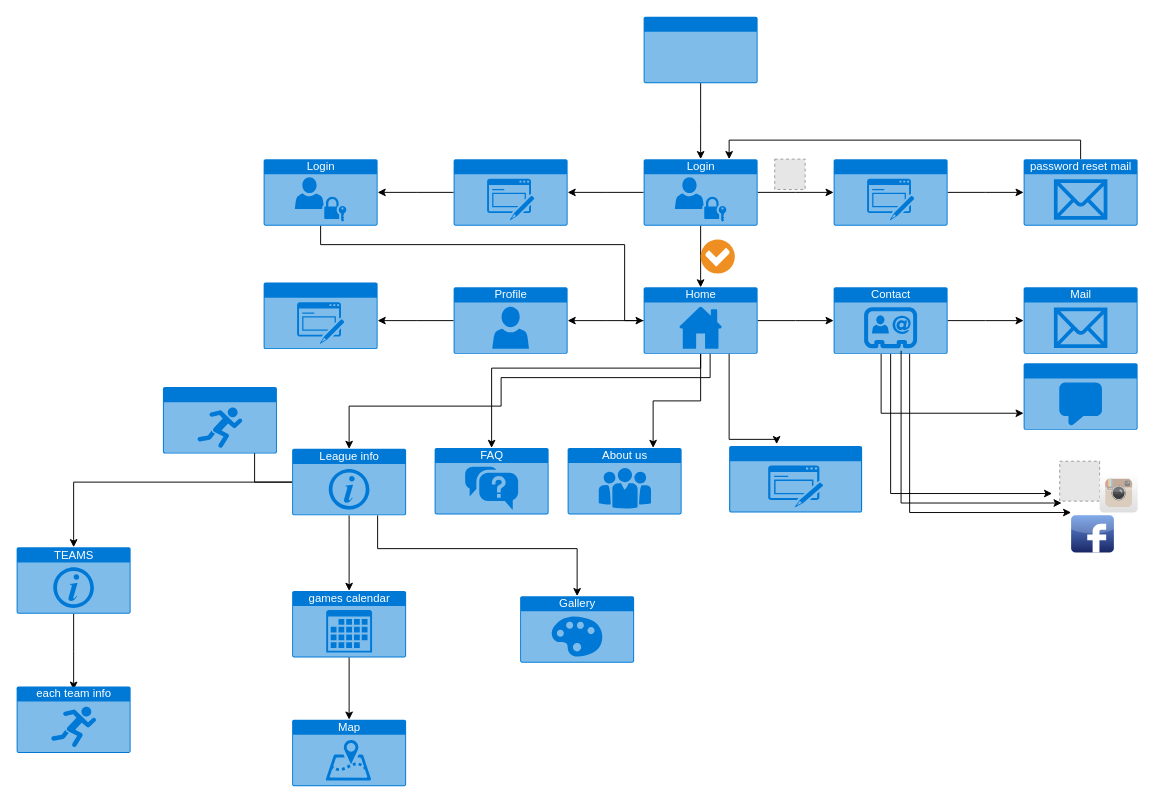
This 1154x802 diagram has some shape labels left out. Grey dashed boxes stand in for pictures. Each missing label, with the box of its shape:
Chat: (1023, 363, 1137, 429)
create account: (453, 159, 567, 225)
Edit profile info: (263, 282, 377, 349)
forgot password?: (833, 159, 947, 225)
FRONT PAGE: (643, 16, 757, 83)
Player Registration form: (729, 446, 862, 512)
rankings and statistics: (162, 387, 276, 453)
